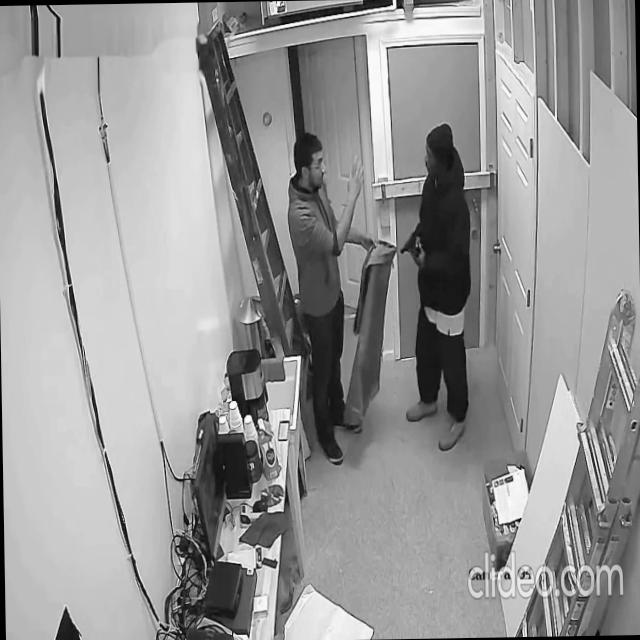gun: (400, 228, 419, 258)
person: (286, 128, 382, 467)
person with a gun: (398, 120, 475, 452)
